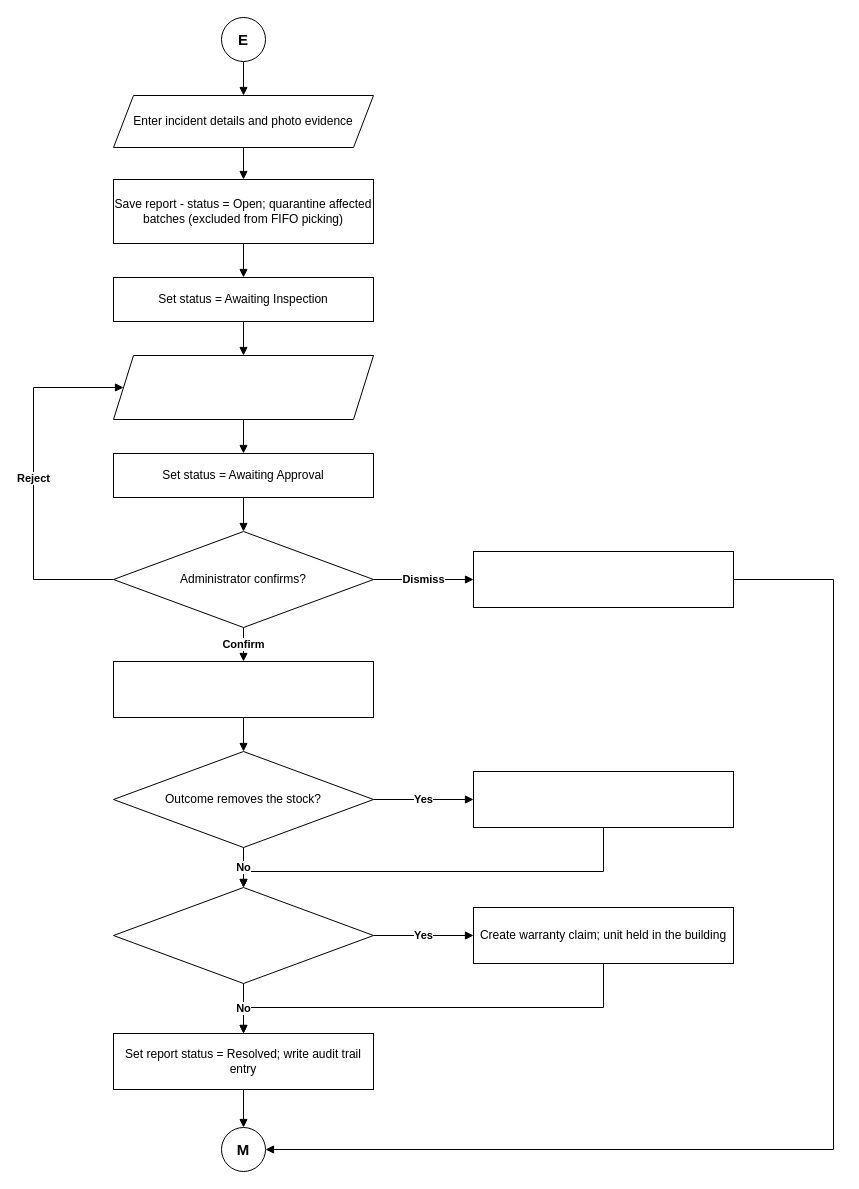
Image size: 859x1189. Some labels were removed from this diagram. Each missing label, with the centre of its shape:
Apply each outcome to its item and set the item status: point 243,689
Deduct quantity; append a batch movement record: point 603,799
Inspector: attach evidence, set an outcome per item: point 243,387
Lift quarantine; set status = Dismissed: point 603,579
Outcome is a warranty claim?: point 243,935
